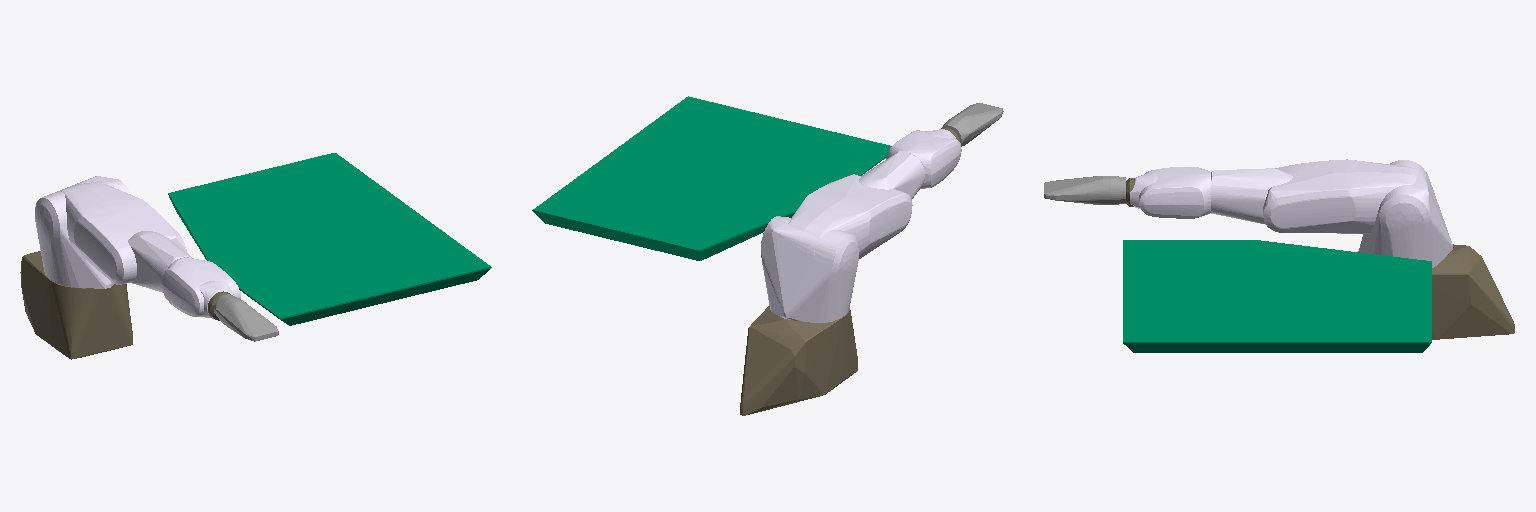
The robot description file, URDF, robot "kuka_meca":
<?xml version="1.0" ?>
<!-- =================================================================================== -->
<!-- |    This document was autogenerated by xacro from dual_robot_description.xacro   | -->
<!-- |    EDITING THIS FILE BY HAND IS NOT RECOMMENDED                                 | -->
<!-- =================================================================================== -->
<robot name="kuka_meca">
  <link name="meca_base_link">
    <visual>
      <origin rpy="0 0 0" xyz="0 0 0"/>
      <geometry>
        <mesh filename="package://example-robot-data/robots/dual_robot_description/meshes/visual/meca_500_r3_base.dae"/>
      </geometry>
    </visual>
    <collision>
      <origin rpy="0 0 0" xyz="0 0 0"/>
      <geometry>
        <mesh filename="package://example-robot-data/robots/dual_robot_description/meshes/collision/meca_500_r3_base_collision.stl"/>
      </geometry>
    </collision>
  </link>
  <!-- Joint 1 -->
  <link name="meca_axis_1_link">
    <visual>
      <origin rpy="0 0 0" xyz="0 0 0"/>
      <geometry>
        <mesh filename="package://example-robot-data/robots/dual_robot_description/meshes/visual/meca_500_r3_j1.dae"/>
      </geometry>
    </visual>
    <collision>
      <origin rpy="0 0 0" xyz="0 0 0"/>
      <geometry>
        <mesh filename="package://example-robot-data/robots/dual_robot_description/meshes/collision/meca_500_r3_j1_collision.stl"/>
      </geometry>
    </collision>
    <inertial>
      <mass value="1.0"/>
      <origin rpy="0 0 0" xyz="0 0 0.0"/>
      <inertia ixx="1.0" ixy="1.0" ixz="0" iyy="0.0" iyz="1.0" izz="0.0"/>
    </inertial>
  </link>
  <joint name="meca_axis_1_joint" type="revolute">
    <origin rpy="0 0 0" xyz="0.012498 0 0.091"/>
    <parent link="meca_base_link"/>
    <child link="meca_axis_1_link"/>
    <axis xyz="0 0 1"/>
    <limit effort="10.0" lower="-3.05433" upper="3.05433" velocity="2.61799"/>
  </joint>
  <!-- Joint 2 -->
  <link name="meca_axis_2_link">
    <visual>
      <origin rpy="0 0 0" xyz="0 0 0"/>
      <geometry>
        <mesh filename="package://example-robot-data/robots/dual_robot_description/meshes/visual/meca_500_r3_j2.dae"/>
      </geometry>
    </visual>
    <collision>
      <origin rpy="0 0 0" xyz="0 0 0"/>
      <geometry>
        <mesh filename="package://example-robot-data/robots/dual_robot_description/meshes/collision/meca_500_r3_j2_collision.stl"/>
      </geometry>
    </collision>
    <inertial>
      <mass value="1.0"/>
      <origin rpy="0 0 0" xyz="0 0 0.0"/>
      <inertia ixx="1.0" ixy="1.0" ixz="0" iyy="0.0" iyz="1.0" izz="0.0"/>
    </inertial>
  </link>
  <joint name="meca_axis_2_joint" type="revolute">
    <origin rpy="0 0 0" xyz="0 0 0.044"/>
    <parent link="meca_axis_1_link"/>
    <child link="meca_axis_2_link"/>
    <axis xyz="0 1 0"/>
    <limit effort="10.0" lower="-1.22173048" upper="1.5708" velocity="2.61799"/>
  </joint>
  <!-- Joint 3 -->
  <link name="meca_axis_3_link">
    <visual>
      <origin rpy="0 0 0" xyz="0 0 0"/>
      <geometry>
        <mesh filename="package://example-robot-data/robots/dual_robot_description/meshes/visual/meca_500_r3_j3.dae"/>
      </geometry>
    </visual>
    <collision>
      <origin rpy="0 0 0" xyz="0 0 0"/>
      <geometry>
        <mesh filename="package://example-robot-data/robots/dual_robot_description/meshes/collision/meca_500_r3_j3_collision.stl"/>
      </geometry>
    </collision>
    <inertial>
      <mass value="1.0"/>
      <origin rpy="0 0 0" xyz="0 0 0.0"/>
      <inertia ixx="1.0" ixy="1.0" ixz="0" iyy="0.0" iyz="1.0" izz="0.0"/>
    </inertial>
  </link>
  <joint name="meca_axis_3_joint" type="revolute">
    <origin rpy="0 0 0" xyz="0 0 0.135"/>
    <parent link="meca_axis_2_link"/>
    <child link="meca_axis_3_link"/>
    <axis xyz="0 1 0"/>
    <limit effort="10.0" lower="-2.35619" upper="1.22173048" velocity="3.14159"/>
  </joint>
  <!-- Joint 4 -->
  <link name="meca_axis_4_link">
    <visual>
      <origin rpy="0 0 0" xyz="0 0 0"/>
      <geometry>
        <mesh filename="package://example-robot-data/robots/dual_robot_description/meshes/visual/meca_500_r3_j4.dae"/>
      </geometry>
    </visual>
    <collision>
      <origin rpy="0 0 0" xyz="0 0 0"/>
      <geometry>
        <mesh filename="package://example-robot-data/robots/dual_robot_description/meshes/collision/meca_500_r3_j4_collision.stl"/>
      </geometry>
    </collision>
    <inertial>
      <mass value="1.0"/>
      <origin rpy="0 0 0" xyz="0 0 0.0"/>
      <inertia ixx="1.0" ixy="1.0" ixz="0" iyy="0.0" iyz="1.0" izz="0.0"/>
    </inertial>
  </link>
  <joint name="meca_axis_4_joint" type="revolute">
    <origin rpy="0 0 0" xyz="0 0 0.038"/>
    <parent link="meca_axis_3_link"/>
    <child link="meca_axis_4_link"/>
    <axis xyz="1 0 0"/>
    <limit effort="10.0" lower="-2.96706" upper="2.96706" velocity="5.23599"/>
  </joint>
  <!-- Joint 5 -->
  <link name="meca_axis_5_link">
    <visual>
      <origin rpy="0 0 0" xyz="0 0 0"/>
      <geometry>
        <mesh filename="package://example-robot-data/robots/dual_robot_description/meshes/visual/meca_500_r3_j5.dae"/>
      </geometry>
    </visual>
    <collision>
      <origin rpy="0 0 0" xyz="0 0 0"/>
      <geometry>
        <mesh filename="package://example-robot-data/robots/dual_robot_description/meshes/collision/meca_500_r3_j5_collision.stl"/>
      </geometry>
    </collision>
    <inertial>
      <mass value="1.0"/>
      <origin rpy="0 0 0" xyz="0 0 0.0"/>
      <inertia ixx="1.0" ixy="1.0" ixz="0" iyy="0.0" iyz="1.0" izz="0.0"/>
    </inertial>
  </link>
  <joint name="meca_axis_5_joint" type="revolute">
    <origin rpy="0 0 0" xyz="0.12 0 0"/>
    <parent link="meca_axis_4_link"/>
    <child link="meca_axis_5_link"/>
    <axis xyz="0 1 0"/>
    <limit effort="10.0" lower="-2.00713" upper="2.00713" velocity="5.23599"/>
  </joint>
  <!-- Joint 6 -->
  <link name="meca_axis_6_link">
    <visual>
      <origin rpy="0 0 0" xyz="0 0 0"/>
      <geometry>
        <mesh filename="package://example-robot-data/robots/dual_robot_description/meshes/visual/meca_500_r3_j6.dae"/>
      </geometry>
    </visual>
    <collision>
      <origin rpy="0 0 0" xyz="0 0 0"/>
      <geometry>
        <mesh filename="package://example-robot-data/robots/dual_robot_description/meshes/collision/meca_500_r3_j6_collision.stl"/>
      </geometry>
    </collision>
    <inertial>
      <mass value="1.0"/>
      <origin rpy="0 0 0" xyz="0 0 0.0"/>
      <inertia ixx="1.0" ixy="1.0" ixz="0" iyy="0.0" iyz="1.0" izz="0.0"/>
    </inertial>
  </link>
  <joint name="meca_axis_6_joint" type="revolute">
    <origin rpy="0 0 0" xyz="0.07 0 0"/>
    <parent link="meca_axis_5_link"/>
    <child link="meca_axis_6_link"/>
    <axis xyz="1 0 0"/>
    <limit effort="10.0" lower="-3.14159" upper="3.14159" velocity="8.72665"/>
  </joint>
  <link name="tool_meca">
    <visual>
      <origin rpy="0 0 0" xyz="0 0 0"/>
      <geometry>
        <mesh filename="package://example-robot-data/robots/dual_robot_description/meshes/visual/GRIPPER.stl"/>
      </geometry>
    </visual>
    <collision>
      <origin rpy="0 0 0" xyz="0 0 0"/>
      <geometry>
        <mesh filename="package://example-robot-data/robots/dual_robot_description/meshes/collision/GRIPPER.stl"/>
      </geometry>
    </collision>
    <inertial>
      <mass value="1.0"/>
      <origin rpy="0 0 0" xyz="0 0 0.0"/>
      <inertia ixx="1.0" ixy="1.0" ixz="0" iyy="0.0" iyz="1.0" izz="0.0"/>
    </inertial>
  </link>
  <joint name="meca_axis_6_joint-tool_meca" type="fixed">
    <parent link="meca_axis_6_link"/>
    <child link="tool_meca"/>
    <origin rpy="0 1.5707963267948966 0" xyz="0.075 0 0"/>
  </joint>
  <link name="tcp_meca"/>
  <joint name="tool_meca-tcp_meca" type="fixed">
    <parent link="tool_meca"/>
    <child link="tcp_meca"/>
    <origin rpy="0 0 0" xyz="0 0.002 0"/>
  </joint>
  <!-- colours based on RAL values given in "FAQ - Colours of robot and robot
       controller", version "KUKA.Tifs | 2010-01-21 |YM| DefaultColorsRobotAndController.doc",
       downloaded 2015-07-18 from
       http://www.kuka.be/main/cservice/faqs/hardware/DefaultColorsRobotAndController.pdf

       all RAL colours converted using http://www.visual-graphics.de/en/customer-care/ral-colours
  -->
  <link name="base_link">
    <!-- <xacro:default_inertial mass="1"/> -->
    <visual>
      <origin rpy="0 0 0" xyz="0 0 0"/>
      <geometry>
        <mesh filename="package://example-robot-data/robots/dual_robot_description/meshes/visual/base_link.stl"/>
      </geometry>
      <material name="">
        <color rgba="0.5058823529411764 0.47058823529411764 0.38823529411764707 1.0"/>
      </material>
    </visual>
    <collision>
      <origin rpy="0 0 0" xyz="0 0 0"/>
      <geometry>
        <mesh filename="package://example-robot-data/robots/dual_robot_description/meshes/collision/base_link.stl"/>
      </geometry>
    </collision>
  </link>
  <link name="link_1">
    <inertial>
      <mass value="1"/>
      <inertia ixx="1.0" ixy="0.0" ixz="0.0" iyy="1.0" iyz="0.0" izz="1.0"/>
    </inertial>
    <visual>
      <origin rpy="0 0 0" xyz="0 0 0"/>
      <geometry>
        <mesh filename="package://example-robot-data/robots/dual_robot_description/meshes/visual/link_1.stl"/>
      </geometry>
      <material name="">
        <color rgba="0.9450980392156862 0.9254901960784314 1.0 1.0"/>
      </material>
    </visual>
    <collision>
      <origin rpy="0 0 0" xyz="0 0 0"/>
      <geometry>
        <mesh filename="package://example-robot-data/robots/dual_robot_description/meshes/collision/link_1.stl"/>
      </geometry>
    </collision>
  </link>
  <link name="link_2">
    <inertial>
      <mass value="1"/>
      <inertia ixx="1.0" ixy="0.0" ixz="0.0" iyy="1.0" iyz="0.0" izz="1.0"/>
    </inertial>
    <visual>
      <origin rpy="0 0 0" xyz="0 0 -0.33"/>
      <geometry>
        <mesh filename="package://example-robot-data/robots/dual_robot_description/meshes/visual/link_2.stl"/>
      </geometry>
      <material name="">
        <color rgba="0.9450980392156862 0.9254901960784314 1.0 1.0"/>
      </material>
    </visual>
    <collision>
      <origin rpy="0 0 0" xyz="0 0 -0.33"/>
      <geometry>
        <mesh filename="package://example-robot-data/robots/dual_robot_description/meshes/collision/link_2.stl"/>
      </geometry>
    </collision>
  </link>
  <link name="link_3">
    <inertial>
      <mass value="1"/>
      <inertia ixx="1.0" ixy="0.0" ixz="0.0" iyy="1.0" iyz="0.0" izz="1.0"/>
    </inertial>
    <visual>
      <origin rpy="0 0 0" xyz="0 0 -0.62"/>
      <geometry>
        <mesh filename="package://example-robot-data/robots/dual_robot_description/meshes/visual/link_3.stl"/>
      </geometry>
      <material name="">
        <color rgba="0.9450980392156862 0.9254901960784314 1.0 1.0"/>
      </material>
    </visual>
    <collision>
      <origin rpy="0 0 0" xyz="0 0 -0.62"/>
      <geometry>
        <mesh filename="package://example-robot-data/robots/dual_robot_description/meshes/collision/link_3.stl"/>
      </geometry>
    </collision>
  </link>
  <link name="link_4">
    <inertial>
      <mass value="1"/>
      <inertia ixx="1.0" ixy="0.0" ixz="0.0" iyy="1.0" iyz="0.0" izz="1.0"/>
    </inertial>
    <visual>
      <origin rpy="0 0 0" xyz="0 0 -0.64"/>
      <geometry>
        <mesh filename="package://example-robot-data/robots/dual_robot_description/meshes/visual/link_4.stl"/>
      </geometry>
      <material name="">
        <color rgba="0.9450980392156862 0.9254901960784314 1.0 1.0"/>
      </material>
    </visual>
    <collision>
      <origin rpy="0 0 0" xyz="0 0 -0.64"/>
      <geometry>
        <mesh filename="package://example-robot-data/robots/dual_robot_description/meshes/collision/link_4.stl"/>
      </geometry>
    </collision>
  </link>
  <link name="link_5">
    <inertial>
      <mass value="1"/>
      <inertia ixx="1.0" ixy="0.0" ixz="0.0" iyy="1.0" iyz="0.0" izz="1.0"/>
    </inertial>
    <visual>
      <origin rpy="0 0 0" xyz="-0.31 0 -0.64"/>
      <geometry>
        <mesh filename="package://example-robot-data/robots/dual_robot_description/meshes/visual/link_5.stl"/>
      </geometry>
      <material name="">
        <color rgba="0.9450980392156862 0.9254901960784314 1.0 1.0"/>
      </material>
    </visual>
    <collision>
      <origin rpy="0 0 0" xyz="-0.31 0 -0.64"/>
      <geometry>
        <mesh filename="package://example-robot-data/robots/dual_robot_description/meshes/collision/link_5.stl"/>
      </geometry>
    </collision>
  </link>
  <link name="link_6">
    <inertial>
      <mass value="1"/>
      <inertia ixx="1.0" ixy="0.0" ixz="0.0" iyy="1.0" iyz="0.0" izz="1.0"/>
    </inertial>
    <visual>
      <origin rpy="0 0 0" xyz="-0.31 0 -0.64"/>
      <geometry>
        <mesh filename="package://example-robot-data/robots/dual_robot_description/meshes/visual/link_6.stl"/>
      </geometry>
      <material name="">
        <color rgba="0.5058823529411764 0.47058823529411764 0.38823529411764707 1.0"/>
      </material>
    </visual>
    <collision>
      <origin rpy="0 0 0" xyz="-0.31 0 -0.64"/>
      <geometry>
        <mesh filename="package://example-robot-data/robots/dual_robot_description/meshes/collision/link_6.stl"/>
      </geometry>
    </collision>
  </link>
  <!-- This frame corresponds to the $FLANGE coordinate system in KUKA KRC controllers. -->
  <!-- <link name="${prefix}tool0" > -->
  <!-- This frame corresponds to the $FLANGE coordinate system in KUKA KRC controllers. -->
  <link name="tool0">
    <inertial>
      <mass value="1"/>
      <inertia ixx="1.0" ixy="0.0" ixz="0.0" iyy="1.0" iyz="0.0" izz="1.0"/>
    </inertial>
    <visual>
      <origin rpy="0 3.141592653589793 0" xyz="0 0 0"/>
      <geometry>
        <mesh filename="package://example-robot-data/robots/dual_robot_description/meshes/visual/gripper_zimmer.stl"/>
      </geometry>
      <material name="grey">
        <color rgba="0.6666666666666666 0.6666666666666666 0.6666666666666666 1"/>
      </material>
    </visual>
    <collision>
      <origin rpy="0 3.141592653589793 0" xyz="0 0 0"/>
      <geometry>
        <mesh filename="package://example-robot-data/robots/dual_robot_description/meshes/collision/gripper_zimmer.stl"/>
      </geometry>
    </collision>
  </link>
  <link name="tcp_kuka"/>
  <joint name="joint_a1" type="revolute">
    <origin rpy="0 0 0" xyz="0 0 0.0"/>
    <!--330-->
    <parent link="base_link"/>
    <child link="link_1"/>
    <axis xyz="0 0 -1"/>
    <limit effort="0" lower="-2.9670597283903604" upper="2.9670597283903604" velocity="9.250245035569947"/>
  </joint>
  <joint name="joint_a2" type="revolute">
    <origin rpy="0 1.571 0" xyz="0.0 0.0 0.33"/>
    <parent link="link_1"/>
    <child link="link_2"/>
    <axis xyz="0 1 0"/>
    <limit effort="0" lower="-2.9670597283903604" upper="0.8726646259971648" velocity="9.232791743050003"/>
  </joint>
  <joint name="joint_a3" type="revolute">
    <origin rpy="0 -1.5707963267948966 0" xyz="0.0 0 0.29"/>
    <parent link="link_2"/>
    <child link="link_3"/>
    <axis xyz="0 1 0"/>
    <limit effort="0" lower="-1.9198621771937625" upper="2.705260340591211" velocity="9.389871375729493"/>
  </joint>
  <joint name="joint_a4" type="revolute">
    <origin rpy="0 0 0" xyz="0 0 0.02"/>
    <parent link="link_3"/>
    <child link="link_4"/>
    <axis xyz="-1 0 0"/>
    <limit effort="0" lower="-3.0543261909900767" upper="3.0543261909900767" velocity="10.471975511965978"/>
  </joint>
  <joint name="joint_a5" type="revolute">
    <origin rpy="0 0 0" xyz="0.310 0 0"/>
    <parent link="link_4"/>
    <child link="link_5"/>
    <axis xyz="0 1 0"/>
    <limit effort="0" lower="-2.0943951023931953" upper="2.0943951023931953" velocity="10.471975511965978"/>
  </joint>
  <joint name="joint_a6" type="revolute">
    <origin rpy="0 0 0" xyz="0.0 0 0"/>
    <parent link="link_5"/>
    <child link="link_6"/>
    <axis xyz="-1 0 0"/>
    <limit effort="0" lower="-6.1086523819801535" upper="6.1086523819801535" velocity="13.962634015954636"/>
  </joint>
  <joint name="joint_a6-tool0" type="fixed">
    <parent link="link_6"/>
    <child link="tool0"/>
    <origin rpy="0 1.5707963267948966 0" xyz="0.075 0 0"/>
    <axis xyz="-1 0 0"/>
  </joint>
  <joint name="tool0-tcp_kuka" type="fixed">
    <parent link="tool0"/>
    <child link="tcp_kuka"/>
    <origin rpy="0 0 0" xyz="0 0.0625 0.19"/>
    <axis xyz="-1 0 0"/>
  </joint>
  <!-- ROS base_link to KUKA $ROBROOT coordinate system transform -->
  <!-- commented below for testing -->
  <!-- <link name="${prefix}base" />
    <joint name="${prefix}base_link-base" type="fixed">
      <origin xyz="0 0 0" rpy="0 0 0"/>
      <parent link="${prefix}base_link"/>
      <child link="${prefix}base"/>
    </joint> -->
  <!-- colours based on RAL values given in "FAQ - Colours of robot and robot
       controller", version "KUKA.Tifs | 2010-01-21 |YM| DefaultColorsRobotAndController.doc",
       downloaded 2015-07-18 from
       http://www.kuka.be/main/cservice/faqs/hardware/DefaultColorsRobotAndController.pdf

       all RAL colours converted using http://www.visual-graphics.de/en/customer-care/ral-colours
  -->
  <link name="telebot_cell_base_link">
    <visual>
      <origin rpy="0 0 0" xyz="0 0 0"/>
      <geometry>
        <mesh filename="package://example-robot-data/robots/dual_robot_description/meshes/visual/telebot_cell.stl" scale="1 1 1"/>
      </geometry>
    </visual>
    <collision>
      <origin rpy="0 0 0" xyz="0.0 0.0 0.0"/>
      <geometry>
        <mesh filename="package://example-robot-data/robots/dual_robot_description/meshes/collision/telebot_cell.stl" scale="1 1 1"/>
      </geometry>
    </collision>
    <!-- <inertial>
                <mass value="1.0"/>
                <origin rpy="0 0 0" xyz="0 0 0.0"/>
                <inertia ixx="1.0" iyy="0.0" izz="0.0"
                    ixy="1.0" ixz="1.0" iyz="1.0"/>
            </inertial> -->
  </link>
  <!-- Positioning the Meca500 -->
  <!-- <xacro:meca_500_r3 prefix="${meca_prefix}"/>
        <joint name="meca_to_table" type="fixed">
            <parent link="telebot_cell_base_link"/>
            <child link="${meca_prefix}meca_base_link"/>
            <origin xyz="0.7 0.2 0.02" rpy="0 0 ${pi/2}"/>
        </joint> -->
  <!-- <link name="telebot_base"/>
        <joint name="tele_cell-tele_base" type="fixed">
            <origin xyz="0 0 0" rpy="0 0 0"/>
            <parent link="telebot_base"/>
            <child link="telebot_cell_base_link"/>
        </joint> -->
  <!-- Define the main robot links and joints -->
  <!-- Define the joint that connects the end effector to the base -->
  <joint name="telebot_cell_base_link_kuka_base_link" type="fixed">
    <parent link="telebot_cell_base_link"/>
    <!-- The base of the robot -->
    <child link="base_link"/>
    <!-- The end effector of the arm -->
    <origin rpy="0 0 -1.5708" xyz="-0.52 -0.2345 -0.291"/>
    <!-- Adjust these values as needed -->
    <axis xyz="0 0 1"/>
    <!-- The axis of rotation (if applicable) -->
  </joint>
  <joint name="meca_to_kuka_joint" type="fixed">
    <parent link="base_link"/>
    <!-- The base of the robot -->
    <child link="meca_base_link"/>
    <!-- The end effector of the arm -->
    <origin xyz="-0.14489 0.50155 0.17690"/>
    <!-- Adjust these values as needed -->
    <axis xyz="0 0 1"/>
    <!-- The axis of rotation (if applicable) -->
  </joint>
</robot>

--- Render facts (derived) ---
Views: 3 orthographic renders of the robot side by side, from view 1: azimuth 30°, elevation 25°; view 2: azimuth 150°, elevation 25°; view 3: azimuth 270°, elevation 25°.
Model kuka_meca with 19 links and 18 joints (12 revolute, 6 fixed), rooted at telebot_cell_base_link, posed every joint at zero.
Visible links, largest first — view 1: telebot_cell_base_link, base_link, link_2, link_1, link_4, link_3, tool0; view 2: telebot_cell_base_link, base_link, link_1, link_2, link_4, link_3, tool0; view 3: telebot_cell_base_link, link_2, base_link, link_1, link_4, link_3, tool0.
Link boxes in pixels (left/top/right/bottom): telebot_cell_base_link: left=168, top=153, right=491, bottom=325; base_link: left=20, top=251, right=132, bottom=359; link_2: left=60, top=181, right=186, bottom=284; link_1: left=35, top=176, right=129, bottom=288; link_4: left=162, top=257, right=240, bottom=316; link_3: left=128, top=231, right=191, bottom=292; tool0: left=214, top=294, right=278, bottom=341; telebot_cell_base_link: left=532, top=96, right=891, bottom=260; base_link: left=740, top=306, right=857, bottom=415; link_1: left=761, top=216, right=858, bottom=322; link_2: left=788, top=174, right=912, bottom=258; link_4: left=886, top=130, right=961, bottom=188; link_3: left=859, top=151, right=924, bottom=198; tool0: left=942, top=103, right=1003, bottom=146; telebot_cell_base_link: left=1123, top=240, right=1431, bottom=352; link_2: left=1263, top=159, right=1430, bottom=233; base_link: left=1432, top=244, right=1514, bottom=339; link_1: left=1358, top=160, right=1452, bottom=267; link_4: left=1139, top=167, right=1210, bottom=218; link_3: left=1211, top=168, right=1292, bottom=224; tool0: left=1044, top=176, right=1125, bottom=204.
Size in the robot's own frame: 0.8412 by 1.13 by 0.4102 metres.
Meshes: 17 distinct files referenced, 9 mesh visuals loaded (9 binary STL); not drawn: 8 (reference not matched to a file when rendering).
